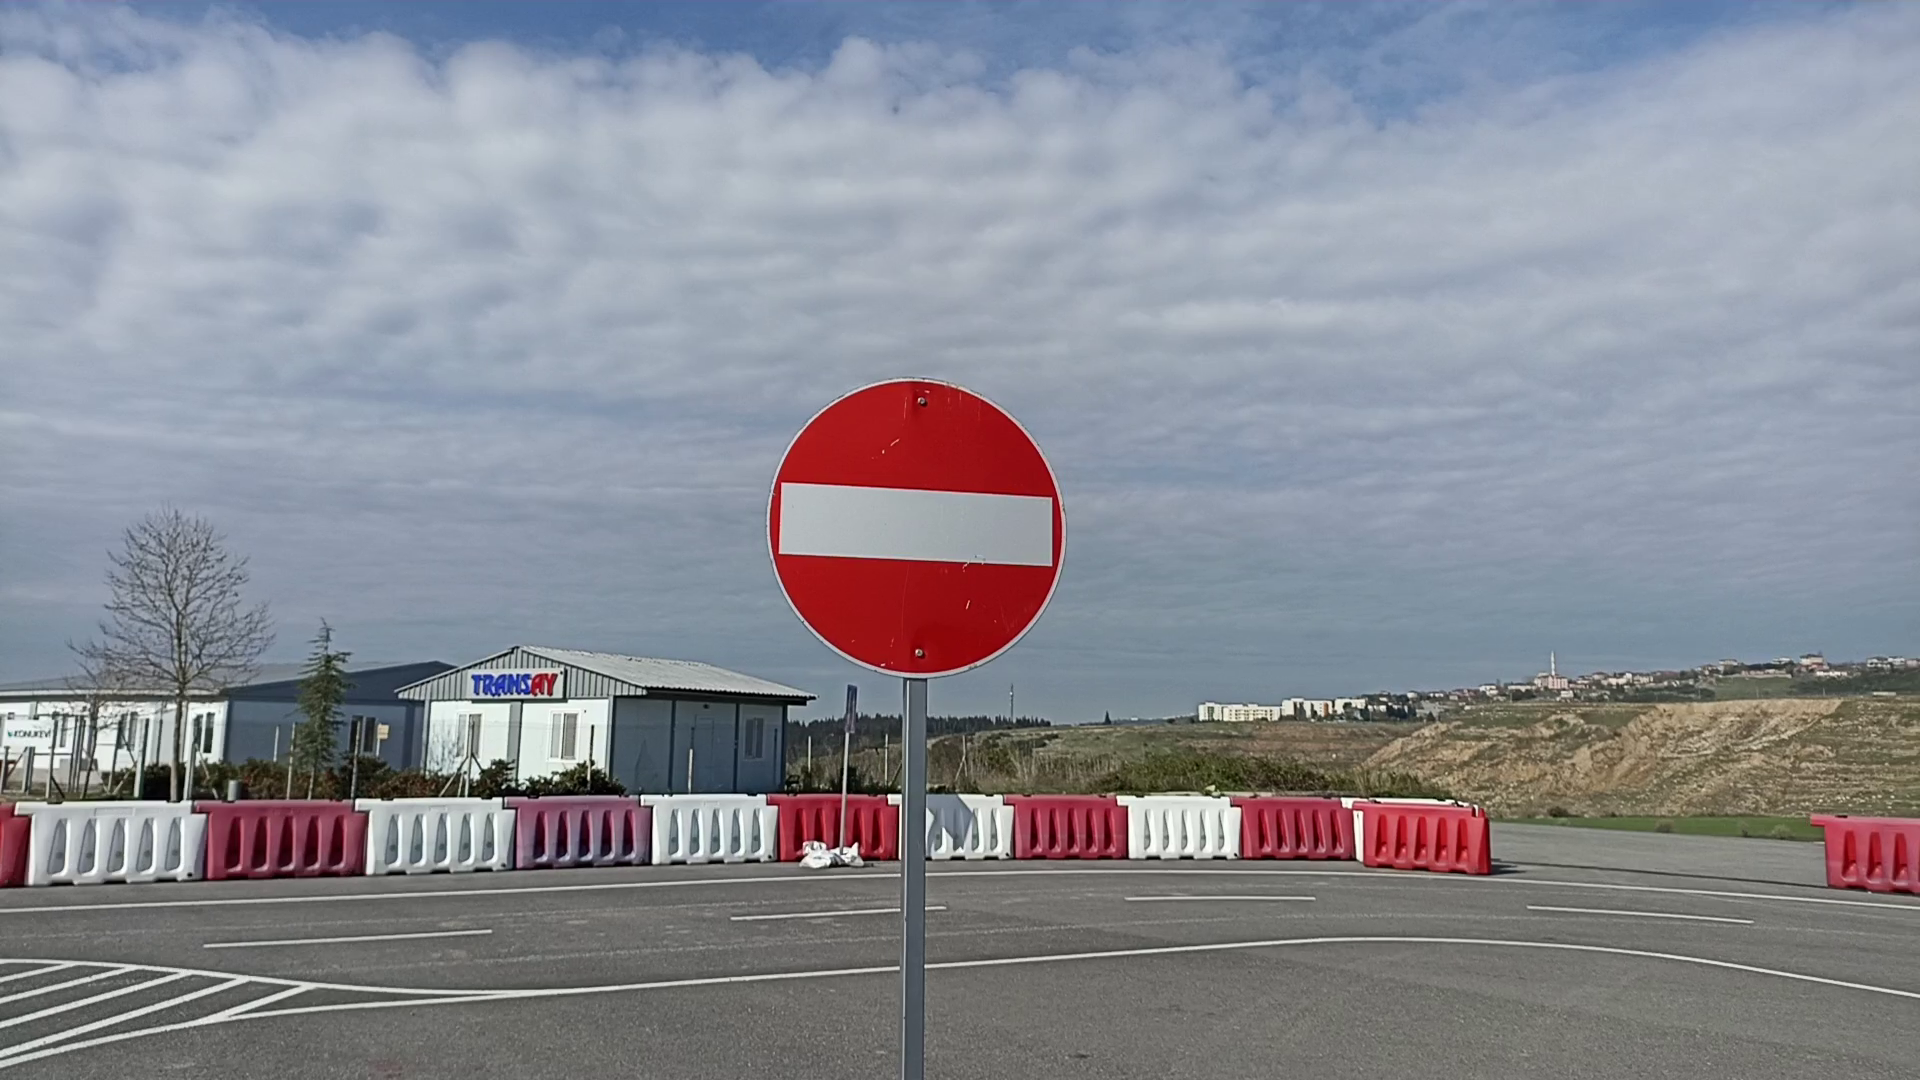noentryway: (760, 373, 1073, 684)
